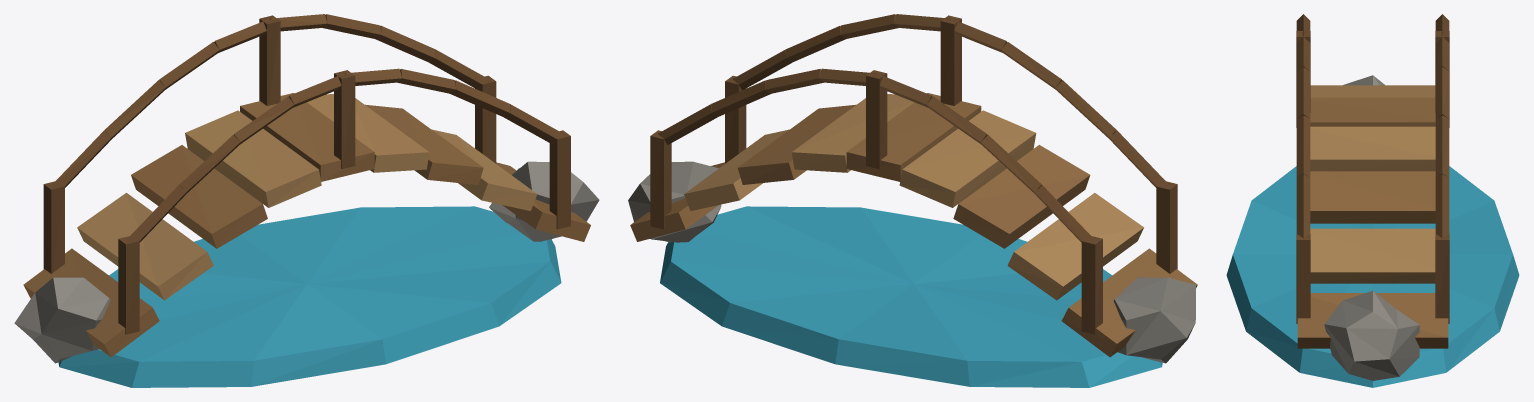
The model's file is pont.glb.
3 views of the same model, side by side, from view 1: azimuth 30°, elevation 25°; view 2: azimuth 150°, elevation 25°; view 3: azimuth 270°, elevation 25° (orthographic). The views are drawn at different scales.
Bounding box in the file's own units: 3.63 × 1.6 × 1.75.
